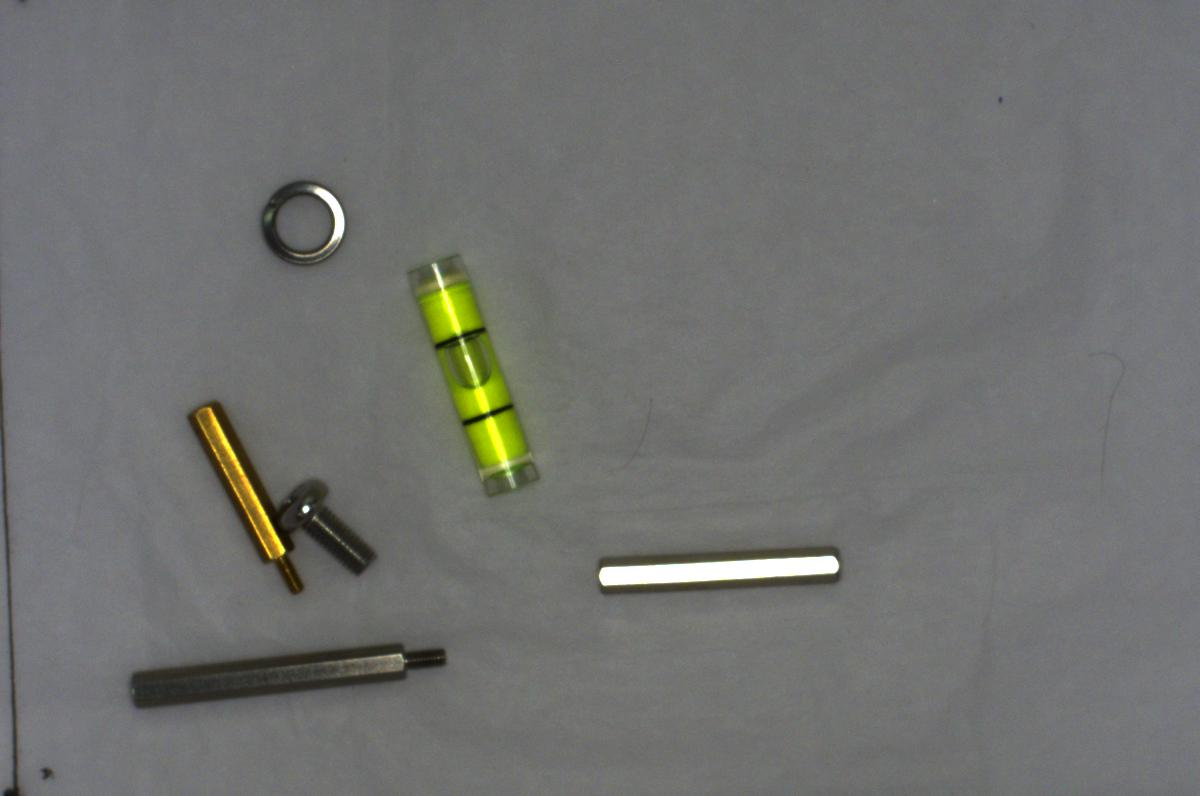Double hexagonal column: (591, 535, 848, 602)
Hexagon pillar: (184, 392, 304, 602)
Hexagonal steel column: (125, 630, 452, 710)
Horizontal bubble: (404, 245, 544, 506)
Round head screw: (273, 474, 384, 581)
Spring washer: (259, 178, 351, 267)
